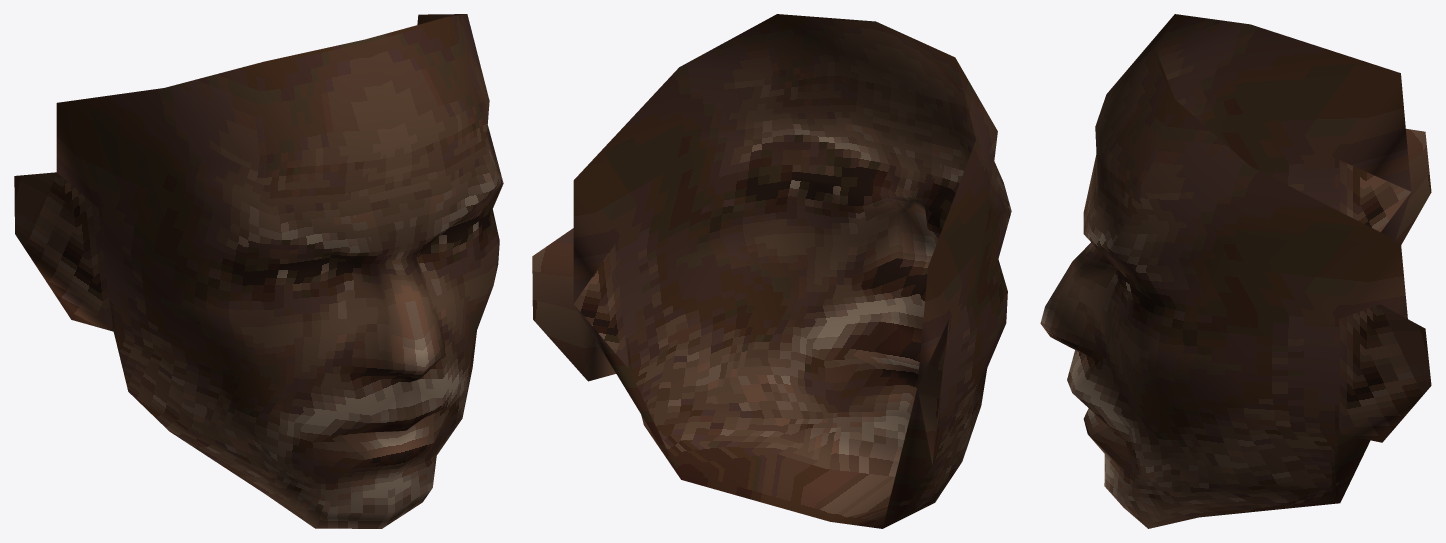
File: m_hair002.glb
3 views of the same model, side by side, from view 1: azimuth 30°, elevation 25°; view 2: azimuth 150°, elevation 25°; view 3: azimuth 270°, elevation 25° (orthographic). The views are drawn at different scales.
Size of the model in its own units: 17.18 by 18.64 by 14.42.
Materials: 1 (1 with a texture image).
